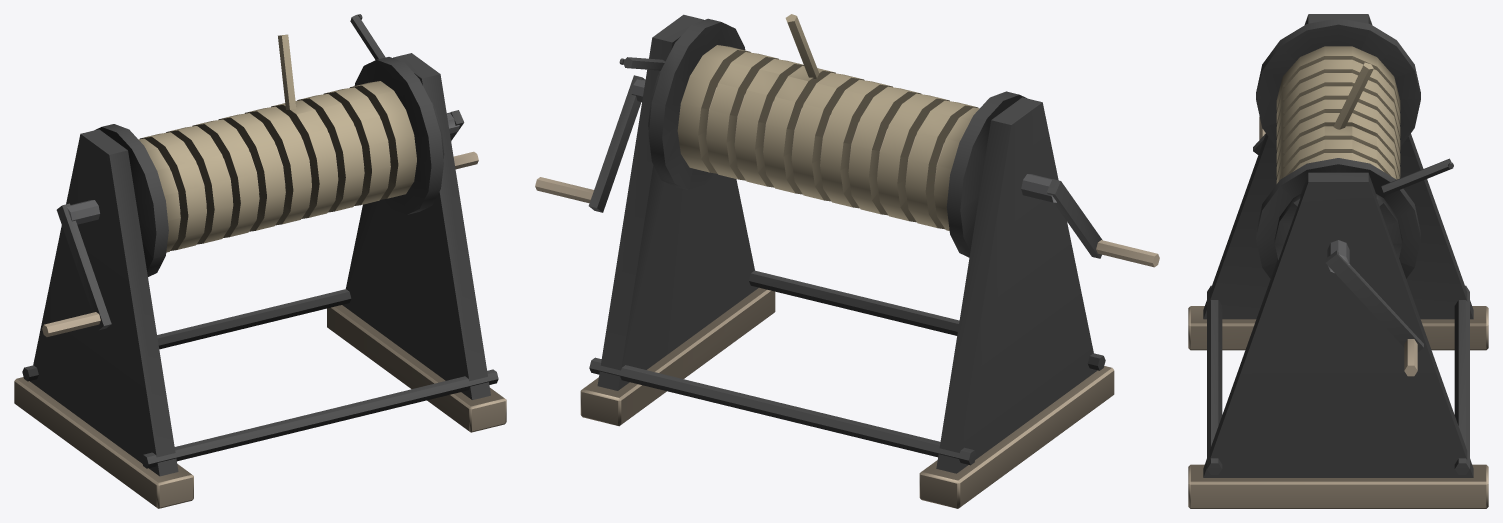
The model's file is winch.glb.
The picture shows the model from 3 angles, left to right: view 1: azimuth 30°, elevation 25°; view 2: azimuth 150°, elevation 25°; view 3: azimuth 270°, elevation 25°; orthographic projection. The views are drawn at different scales.
Parts seen in each view (by area): view 1: static; view 2: static; view 3: static.
Part boxes in pixels (box(x1,y1,x2,y2)): static: box(14, 14, 506, 508); static: box(535, 14, 1159, 508); static: box(1188, 14, 1488, 508).
Bounding box in the file's own units: 1.6 × 1.11 × 0.8.
